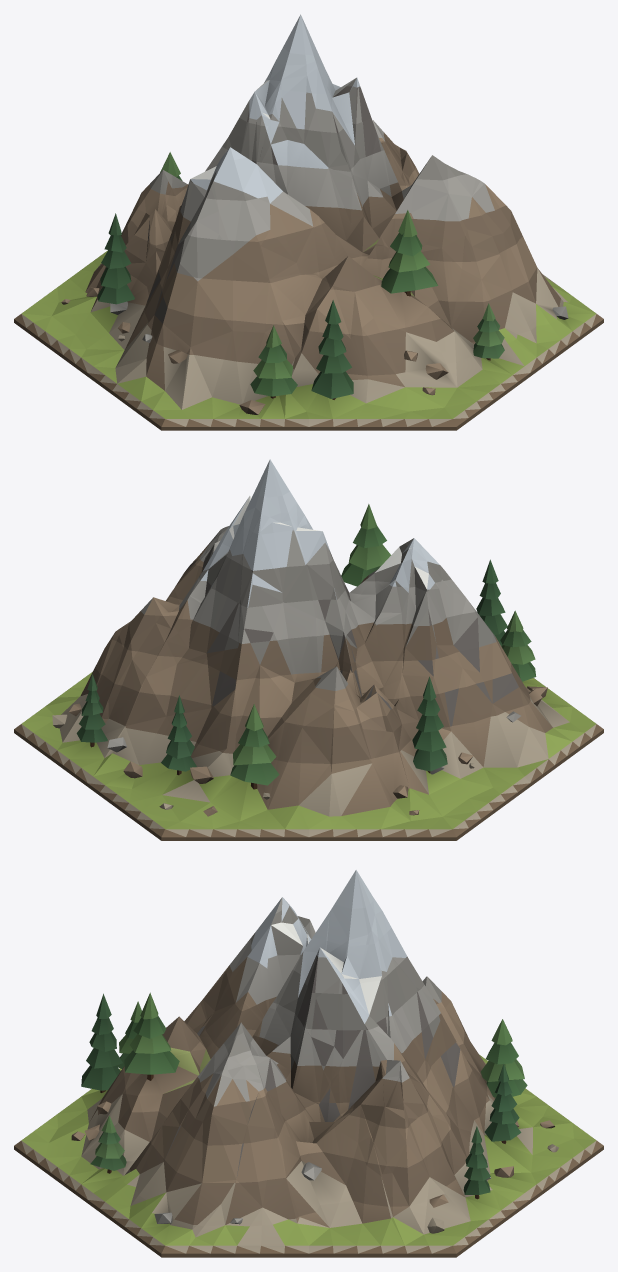
Rendered from mountain_a.glb.
3 views of the same model, one above another, from view 1: azimuth 30°, elevation 25°; view 2: azimuth 150°, elevation 25°; view 3: azimuth 270°, elevation 25° (orthographic).
Parts seen in each view (by area): view 1: mountain_a; view 2: mountain_a; view 3: mountain_a.
Part boxes in pixels (x1,y1,x2,y2): mountain_a: [14, 14, 603, 430]; mountain_a: [14, 459, 603, 840]; mountain_a: [14, 870, 603, 1257].
Size of the model in its own units: 17.32 by 10.76 by 20.
